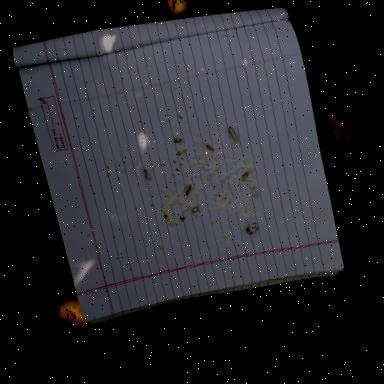pbw: (226, 124, 242, 146), (244, 221, 260, 235), (202, 139, 216, 154), (140, 166, 152, 182), (182, 183, 194, 199), (240, 170, 252, 180), (190, 204, 200, 216), (173, 136, 184, 143)
